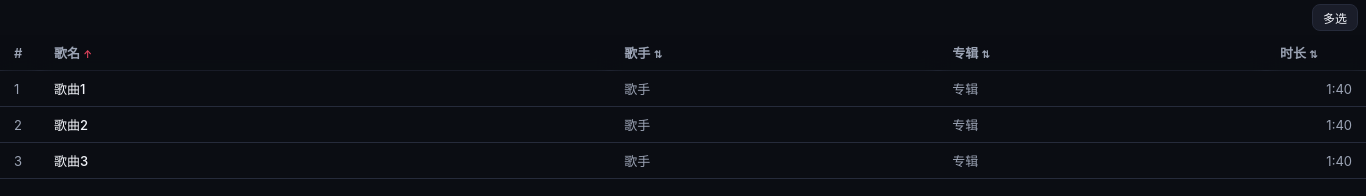
Test: MusicList 右键菜单（已定型的四项交互） › 右键行显示：查看详情 / 打开文件位置 / 添加到播放列表 / 添加到收藏
Right-click the text "歌曲1".
right_click(683, 88)  # box [0,70,1365,106]
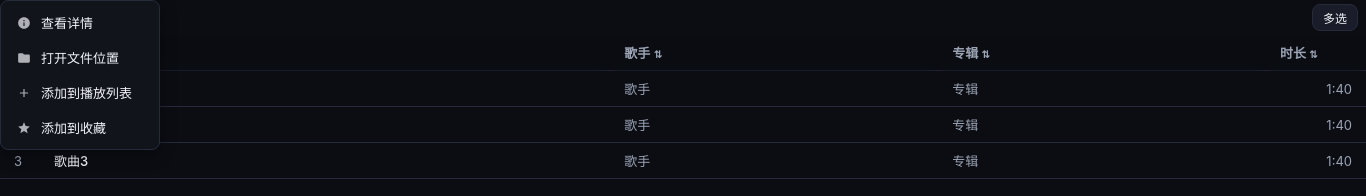
Now the text "查看详情" is shown, box [17,15,93,31]
Now the text "打开文件位置" is shown, box [17,50,119,66]
Now the text "添加到播放列表" is shown, box [17,85,132,101]
